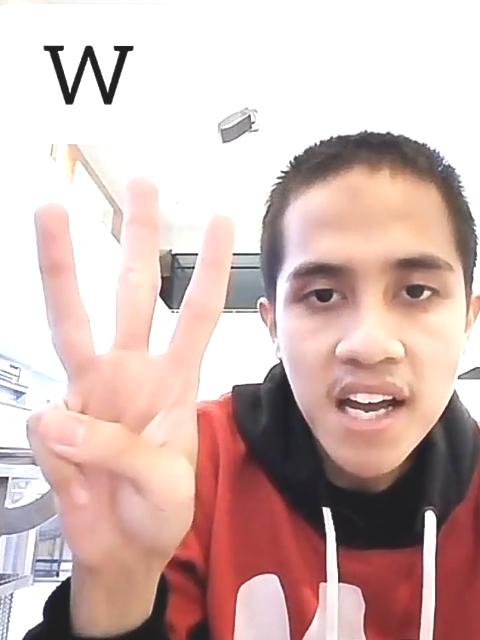W: (19, 174, 238, 560)
